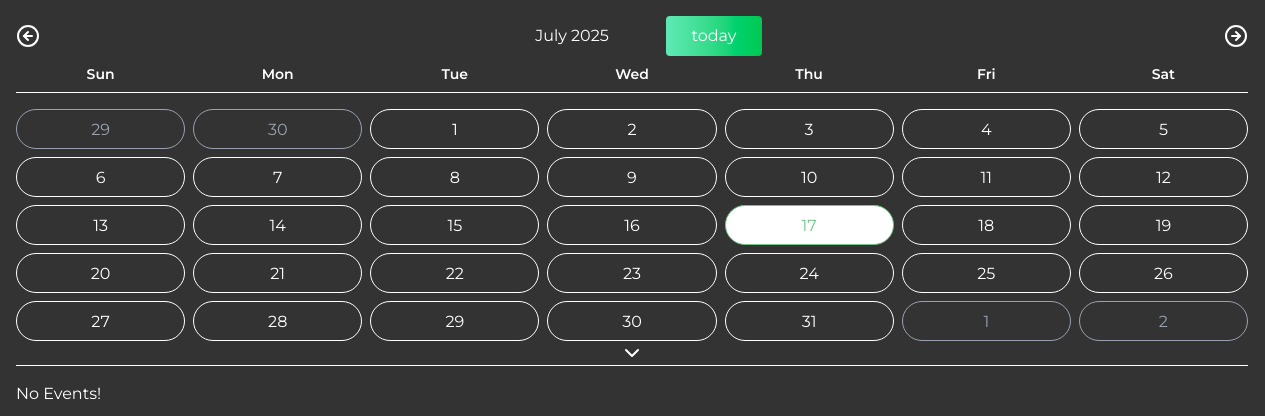
Calendar Page › Calendar Render › minimizes to show only the selected week
Expected: the text "July 2025" is shown, x1=535 y1=26 x2=609 y2=45
Click the button named "minimize or expand calendar": (632, 353) x1=16 y1=341 x2=1248 y2=365
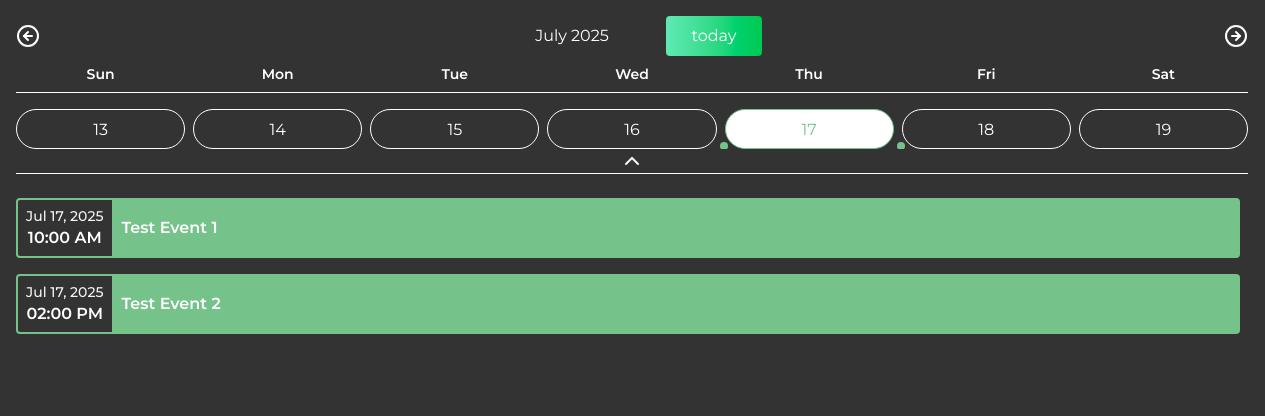
Expected: the button "13" is shown, x1=16 y1=109 x2=185 y2=149
Now the button "12" is gone
